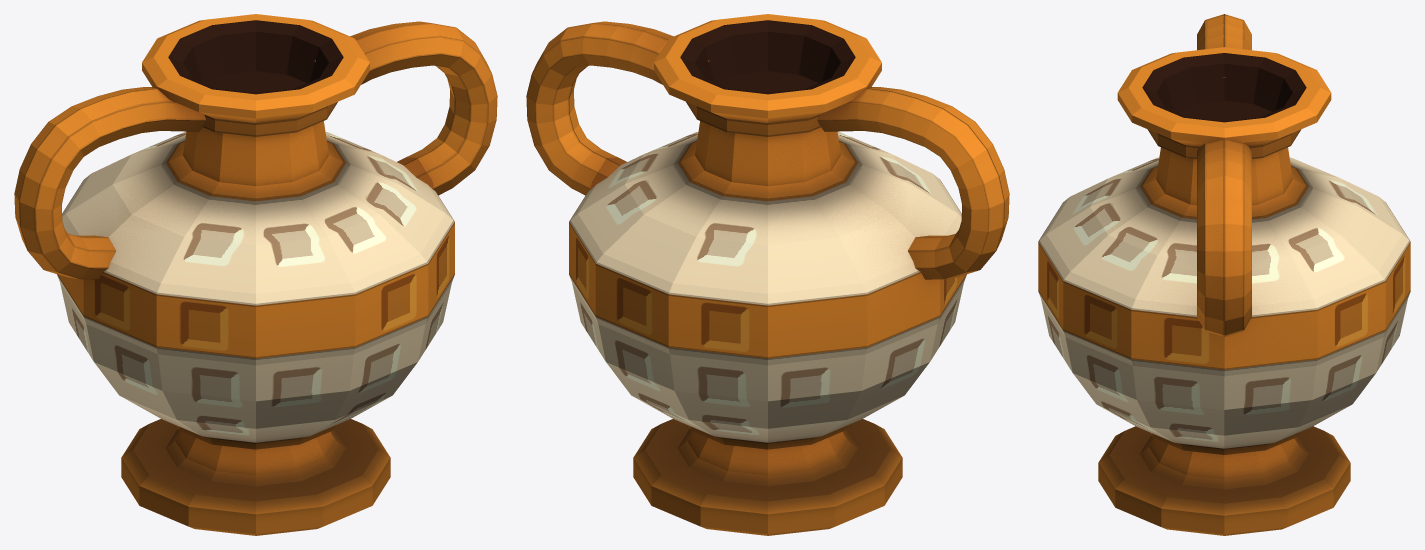
File: ArtV8_Amphora1.fbx
The picture shows the model from 3 angles, left to right: view 1: azimuth 30°, elevation 25°; view 2: azimuth 150°, elevation 25°; view 3: azimuth 270°, elevation 25°; orthographic projection. The views are drawn at different scales.
Parts seen in each view (by area): view 1: ArtV8_Amphora1; view 2: ArtV8_Amphora1; view 3: ArtV8_Amphora1.
Part boxes in pixels (bbox=[...]): ArtV8_Amphora1: bbox=[14, 14, 497, 535]; ArtV8_Amphora1: bbox=[526, 14, 1009, 535]; ArtV8_Amphora1: bbox=[1038, 14, 1410, 535].
Bounding box in the file's own units: 3.74 × 3.22 × 2.72.
